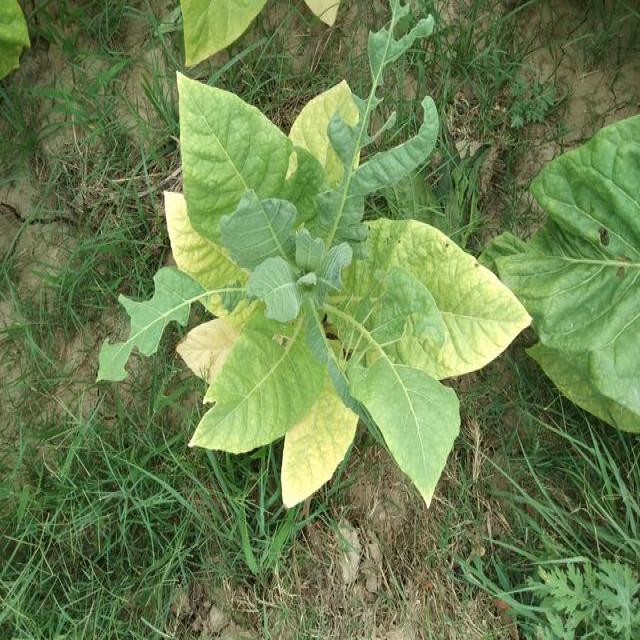crop: (161, 62, 534, 520)
